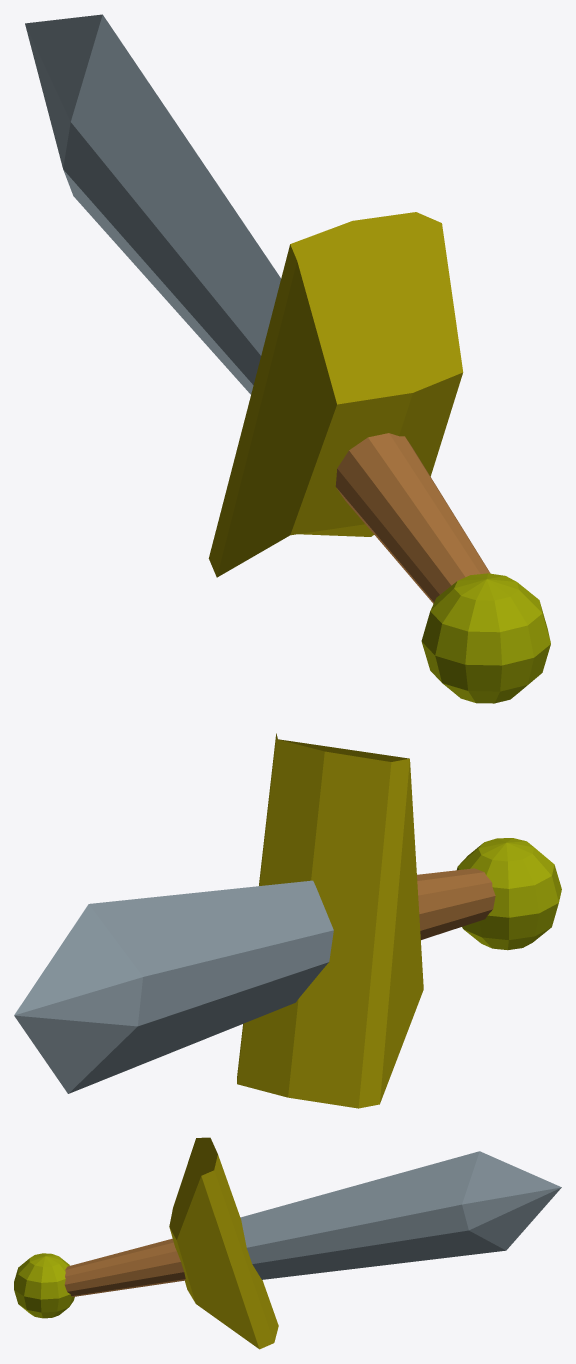
File: first short sword.obj
The picture shows the model from 3 angles, top to bottom: view 1: azimuth 30°, elevation 25°; view 2: azimuth 150°, elevation 25°; view 3: azimuth 270°, elevation 25°; orthographic projection. The views are drawn at different scales.
Parts seen in each view (by area): view 1: Sphere; view 2: Sphere; view 3: Sphere.
Part boxes in pixels (x1=…): Sphere: x1=25, y1=14, x2=550, y2=703; Sphere: x1=14, y1=733, x2=561, y2=1108; Sphere: x1=14, y1=1137, x2=561, y2=1349.
Bounding box in the file's own units: 0.0734 × 0.1516 × 0.4035.
